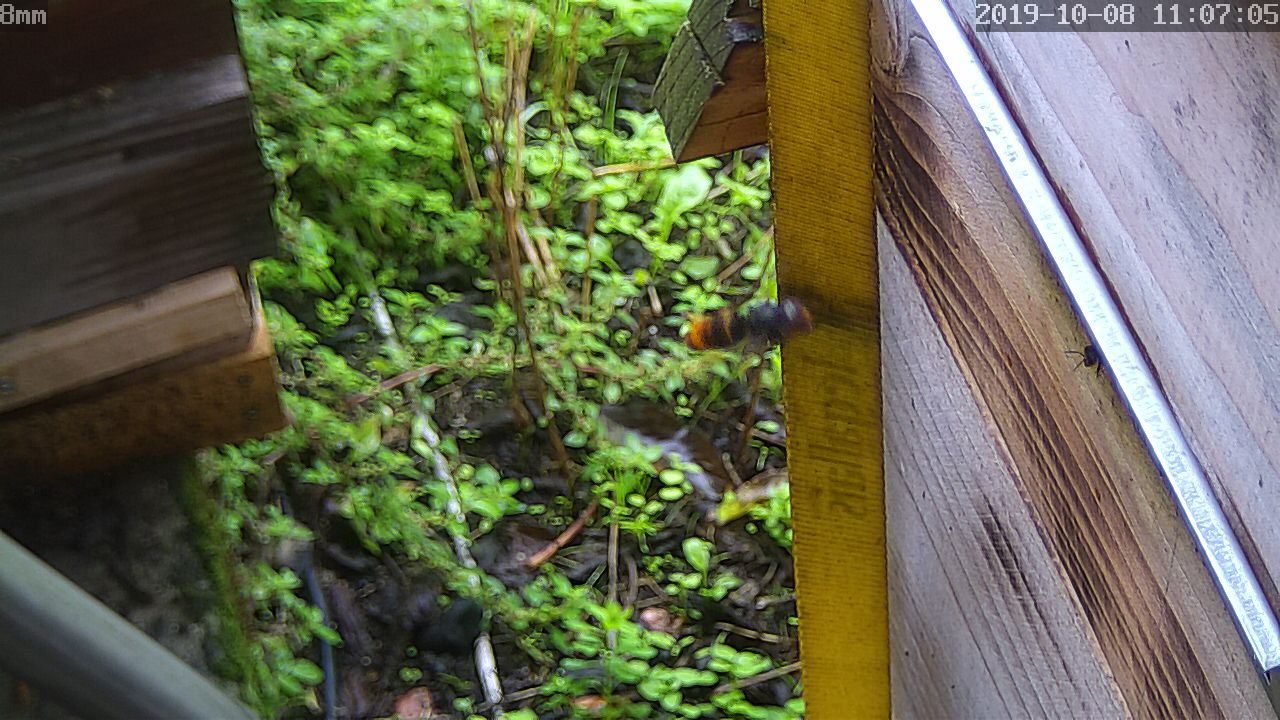bee: (1074, 332, 1121, 387)
hornet: (678, 277, 813, 364)
